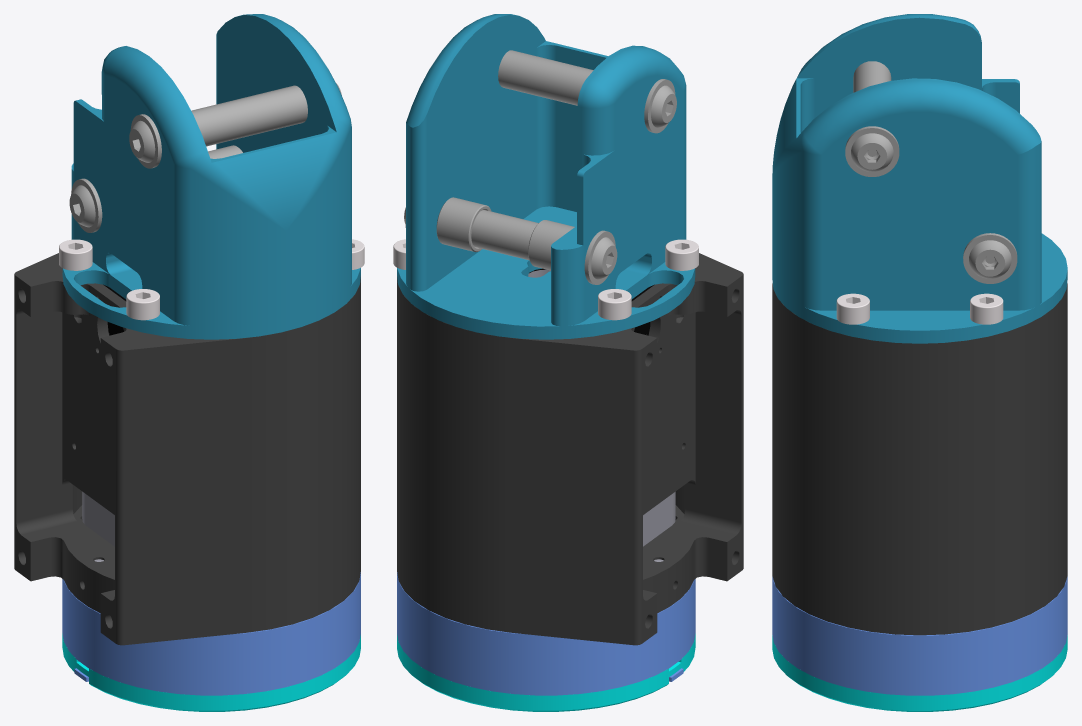
File: RARM_LINK2_mesh.dae
3 views of the same model, side by side, from view 1: azimuth 30°, elevation 25°; view 2: azimuth 150°, elevation 25°; view 3: azimuth 270°, elevation 25° (orthographic).
Visible parts, largest first — view 1: サーフェス1_ncl1_8, サーフェス1, サーフェス1_ncl1_7, サーフェス1_ncl1_5, サーフェス1_ncl1_36, サーフェス1_ncl1_41, サーフェス1_ncl1_39, サーフェス1_ncl1_26, サーフェス1_ncl1_30, サーフェス1_ncl1_32; view 2: サーフェス1_ncl1_8, サーフェス1, サーフェス1_ncl1_7, サーフェス1_ncl1_5, サーフェス1_ncl1_36, サーフェス1_ncl1_37, サーフェス1_ncl1_35, サーフェス1_ncl1_41, サーフェス1_ncl1_39, サーフェス1_ncl1_34, サーフェス1_ncl1_26, サーフェス1_ncl1_32 (+1 smaller); view 3: サーフェス1_ncl1_8, サーフェス1, サーフェス1_ncl1_7, サーフェス1_ncl1_5, サーフェス1_ncl1_38, サーフェス1_ncl1_40, サーフェス1_ncl1_31, サーフェス1_ncl1_33, サーフェス1_ncl1_36.
Part boxes in pixels (x1,y1,x2,y2): サーフェス1_ncl1_8: [14, 253, 360, 645]; サーフェス1: [62, 14, 360, 339]; サーフェス1_ncl1_7: [62, 572, 360, 695]; サーフェス1_ncl1_5: [62, 633, 360, 711]; サーフェス1_ncl1_36: [191, 85, 307, 146]; サーフェス1_ncl1_41: [69, 178, 102, 232]; サーフェス1_ncl1_39: [129, 114, 161, 168]; サーフェス1_ncl1_26: [82, 333, 114, 546]; サーフェス1_ncl1_30: [59, 239, 92, 270]; サーフェス1_ncl1_32: [126, 289, 159, 320]; サーフェス1_ncl1_8: [397, 253, 743, 645]; サーフェス1: [397, 14, 695, 339]; サーフェス1_ncl1_7: [397, 572, 695, 695]; サーフェス1_ncl1_5: [397, 633, 695, 711]; サーフェス1_ncl1_36: [498, 50, 593, 105]; サーフェス1_ncl1_37: [471, 210, 538, 260]; サーフェス1_ncl1_35: [436, 197, 491, 252]; サーフェス1_ncl1_41: [584, 230, 617, 284]; サーフェス1_ncl1_39: [644, 79, 676, 133]; サーフェス1_ncl1_34: [528, 220, 574, 270]; サーフェス1_ncl1_26: [643, 333, 675, 546]; サーフェス1_ncl1_32: [665, 239, 698, 270]; サーフェス1_ncl1_8: [772, 283, 1067, 635]; サーフェス1: [772, 14, 1067, 343]; サーフェス1_ncl1_7: [772, 576, 1067, 695]; サーフェス1_ncl1_5: [772, 635, 1067, 711]; サーフェス1_ncl1_38: [963, 233, 1017, 283]; サーフェス1_ncl1_40: [845, 126, 899, 176]; サーフェス1_ncl1_31: [970, 293, 1003, 324]; サーフェス1_ncl1_33: [836, 293, 869, 324]; サーフェス1_ncl1_36: [853, 61, 891, 92].
Bounding box in the file's own units: 0.066 × 0.062 × 0.1415.
